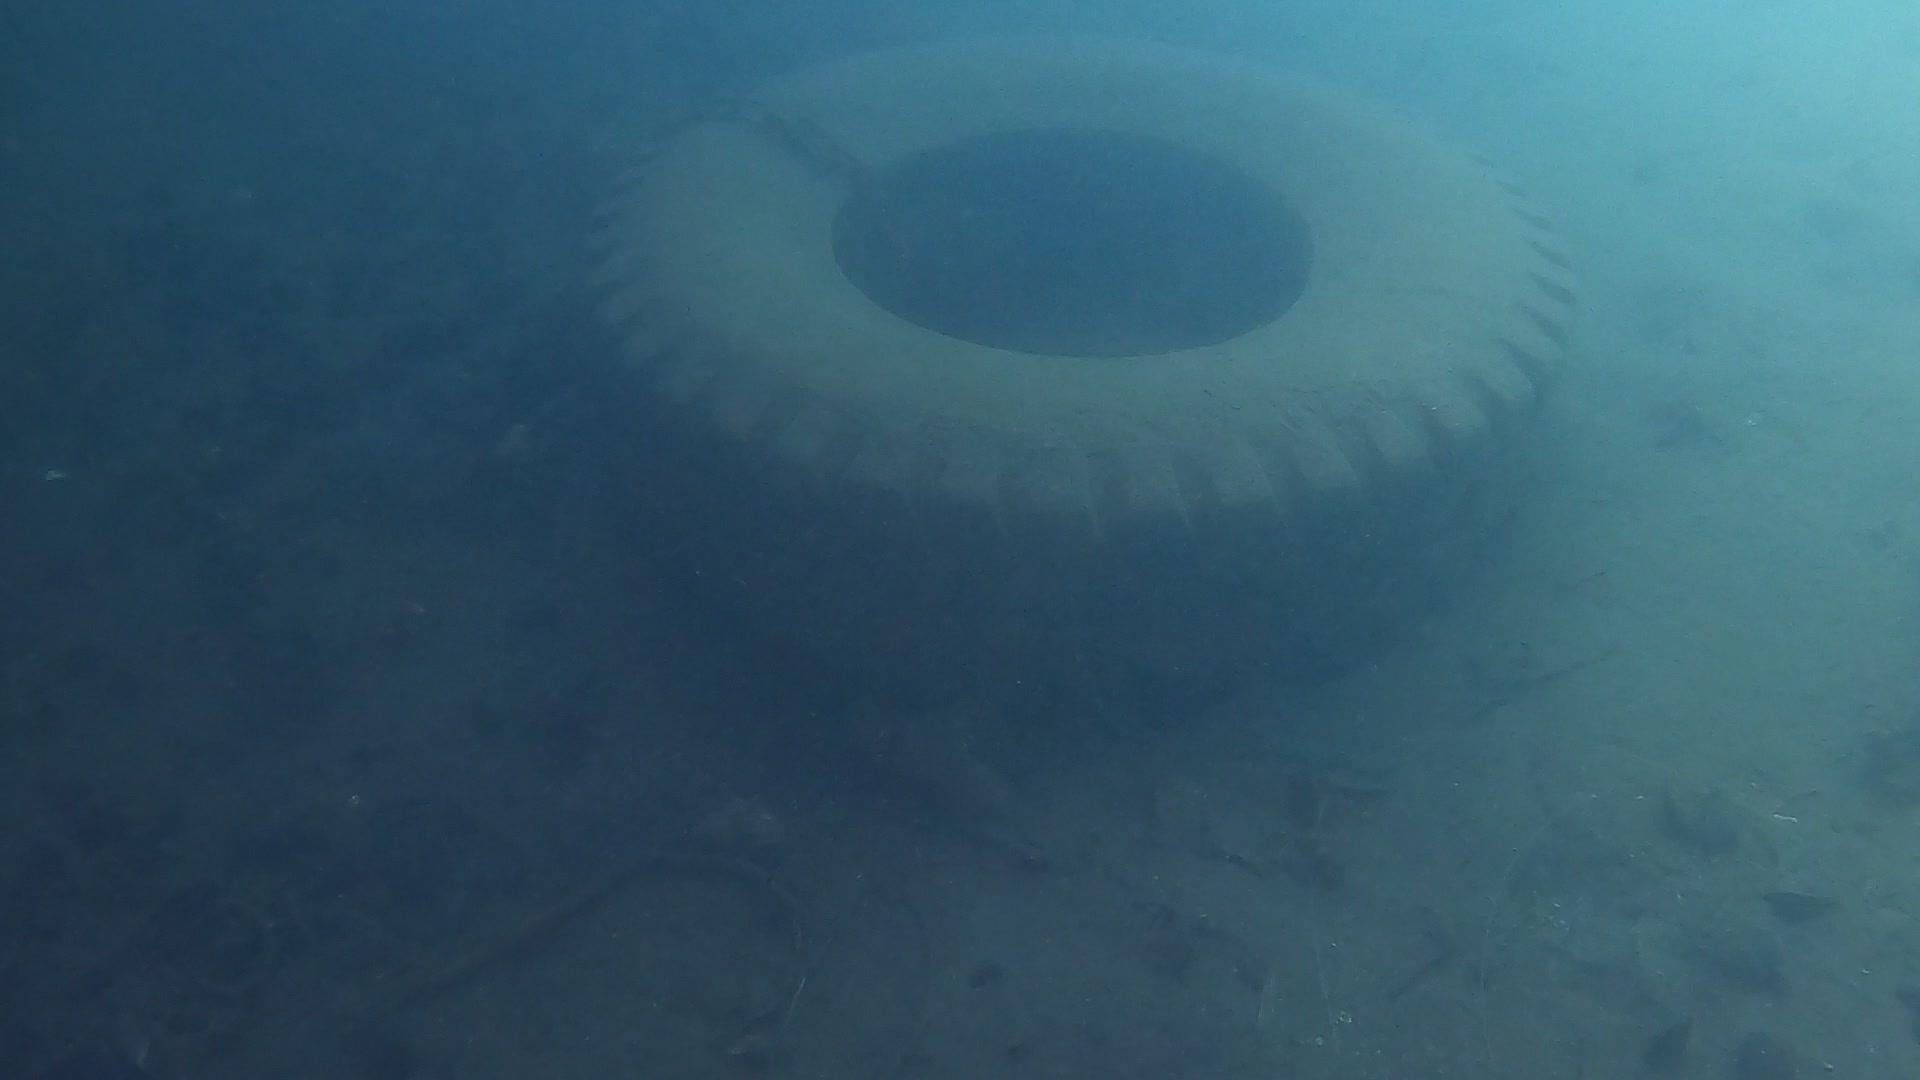tire: (583, 28, 1581, 603)
